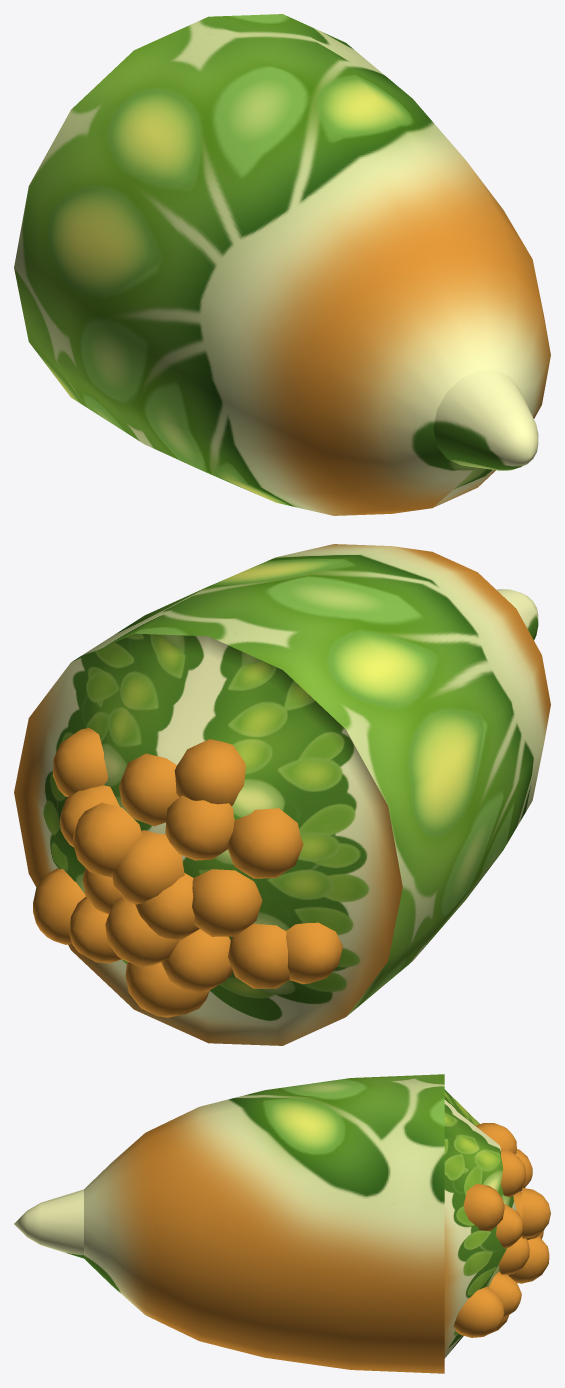
File: FingerLime_01_Half.fbx
The picture shows the model from 3 angles, top to bottom: view 1: azimuth 30°, elevation 25°; view 2: azimuth 150°, elevation 25°; view 3: azimuth 270°, elevation 25°; orthographic projection. The views are drawn at different scales.
Visible parts, largest first — view 1: FingerLime_01_Half; view 2: FingerLime_01_Half; view 3: FingerLime_01_Half.
Boxes of the visible parts, bbox=[...] form: FingerLime_01_Half: bbox=[14, 14, 550, 515]; FingerLime_01_Half: bbox=[14, 544, 550, 1045]; FingerLime_01_Half: bbox=[14, 1074, 550, 1373].
Size of the model in its own units: 19.5 by 19.5 by 34.93.
